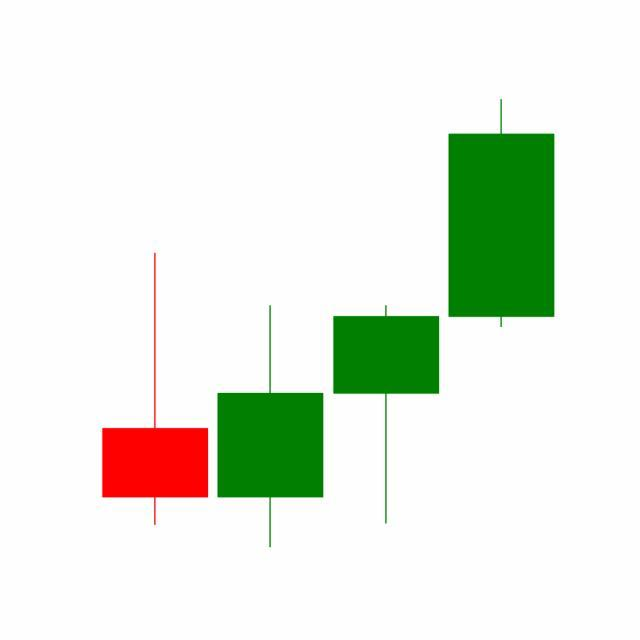Marubozu: (444, 97, 560, 331)
